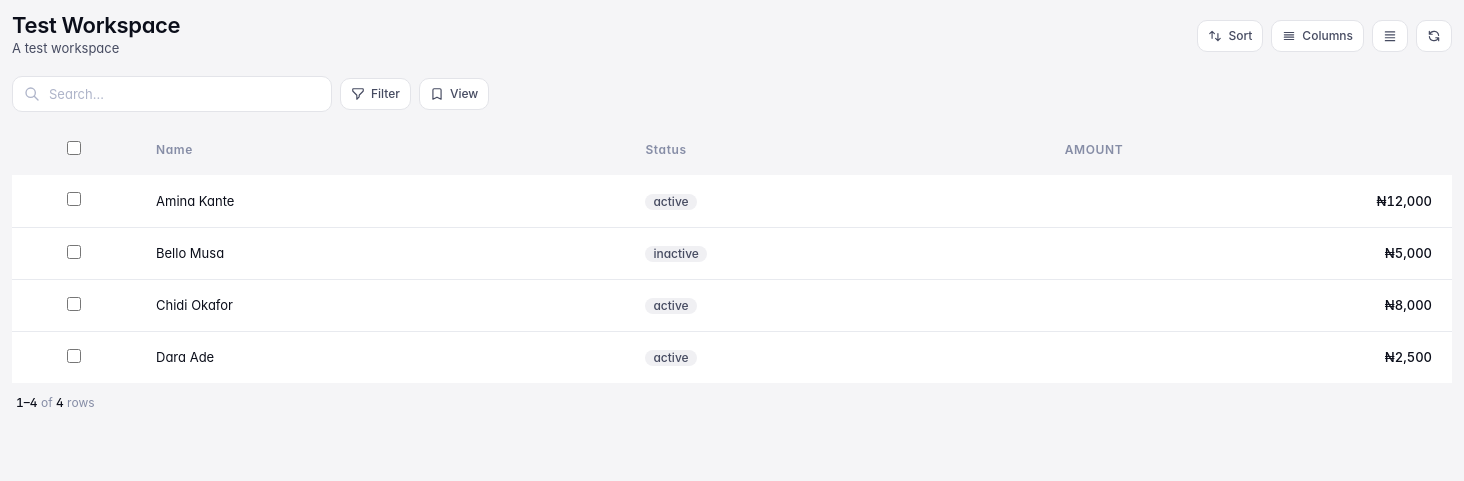
Scenario: DataWorkspace — selection and bulk actions › selects rows individually, showing the selection bar and bulk action
Click the checkbox named "Select row 1" at (74,200), box [67,192,81,206]
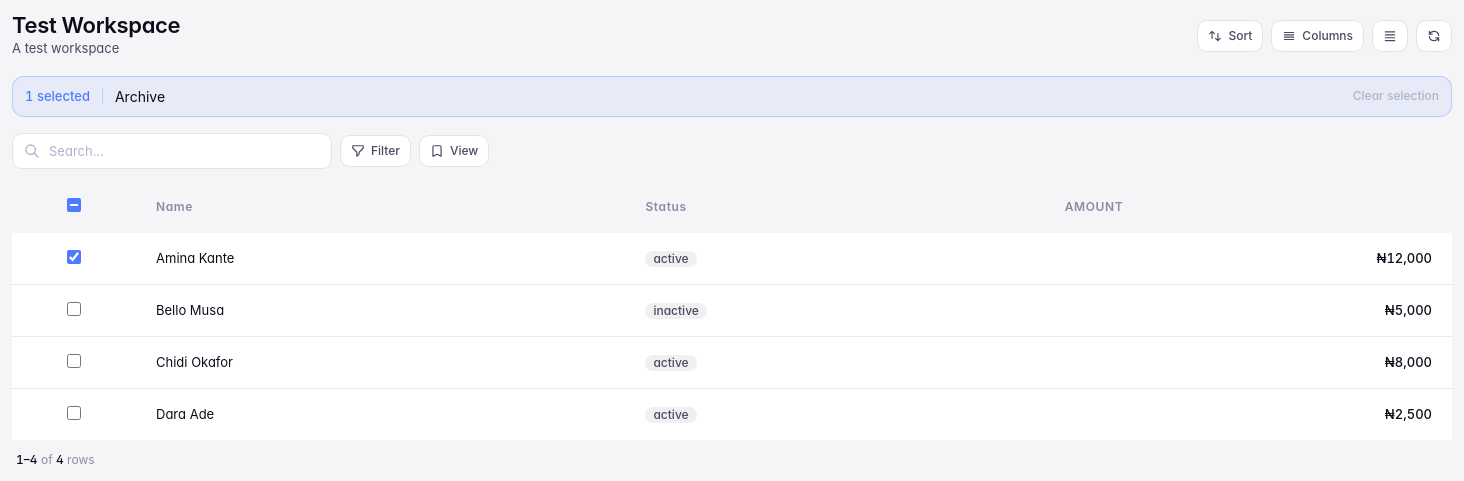
Expected: the text "1 selected" is shown, [25,87,90,106]
Expected: the button "Archive" is shown, [115,85,165,108]
